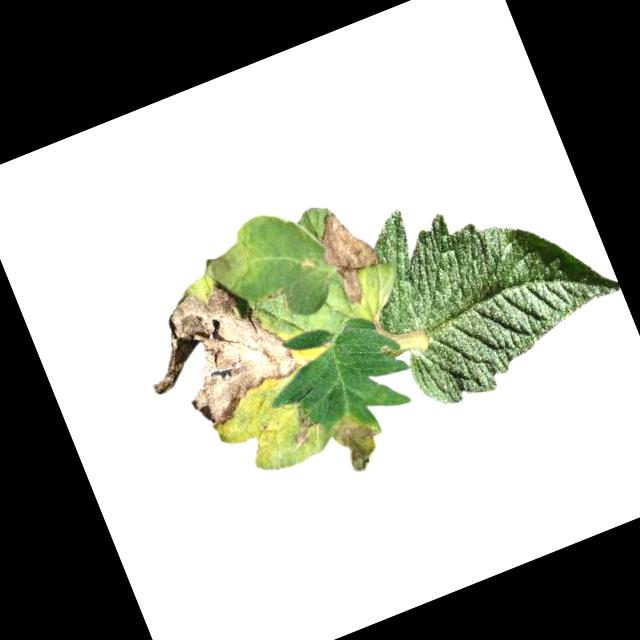Late_blight: (124, 261, 316, 445), (307, 201, 392, 312), (324, 402, 392, 476), (202, 243, 251, 293), (279, 400, 323, 449), (379, 339, 403, 362)
